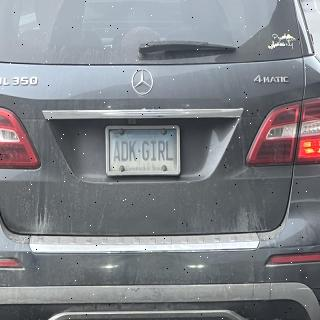license: (106, 125, 181, 178)
